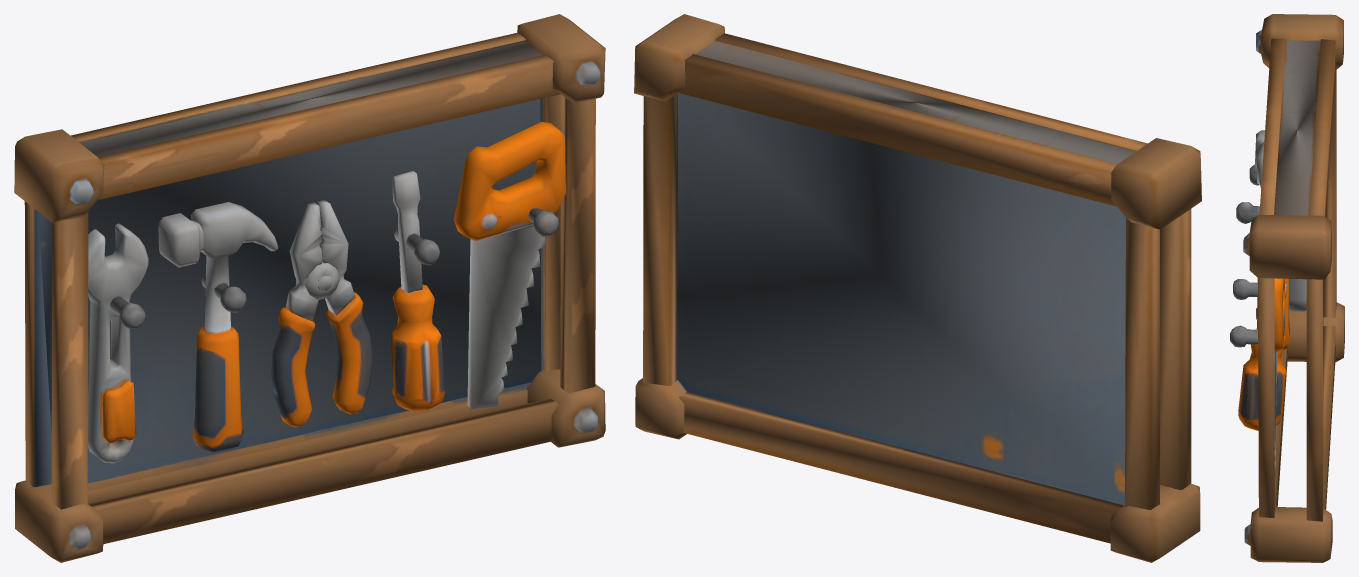
File: tool-set.glb
3 renders of one model, left to right at view 1: azimuth 30°, elevation 25°; view 2: azimuth 150°, elevation 25°; view 3: azimuth 270°, elevation 25°, orthographic. The views are drawn at different scales.
Parts seen in each view (by area): view 1: tripo_node_27e853f8-7d08-4d6f-9612-346b8693442a; view 2: tripo_node_27e853f8-7d08-4d6f-9612-346b8693442a; view 3: tripo_node_27e853f8-7d08-4d6f-9612-346b8693442a.
Part boxes in pixels (box(x1,y1,x2,y2)): tripo_node_27e853f8-7d08-4d6f-9612-346b8693442a: box(14, 14, 605, 562); tripo_node_27e853f8-7d08-4d6f-9612-346b8693442a: box(634, 14, 1201, 562); tripo_node_27e853f8-7d08-4d6f-9612-346b8693442a: box(1230, 14, 1344, 562).
Bounding box in the file's own units: 0.998 × 0.6934 × 0.2168.
Materials: 1 (1 with a texture image).
